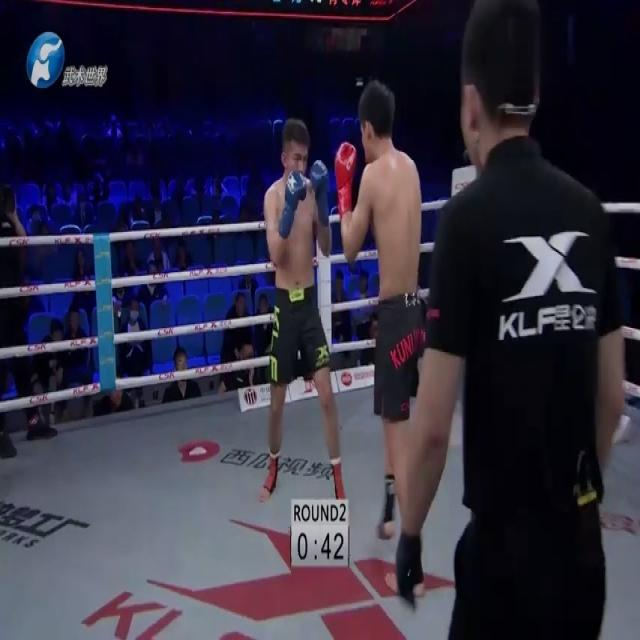fight: (257, 80, 424, 598)
non-fight: (398, 3, 621, 639), (0, 183, 40, 457), (29, 320, 71, 438), (218, 291, 255, 391), (56, 309, 90, 413), (120, 298, 154, 397), (66, 248, 96, 330), (162, 350, 202, 405), (253, 294, 276, 380), (138, 261, 169, 324), (26, 218, 53, 284), (93, 379, 136, 417), (146, 235, 172, 278), (71, 186, 96, 229), (239, 182, 263, 222), (235, 273, 258, 311)
